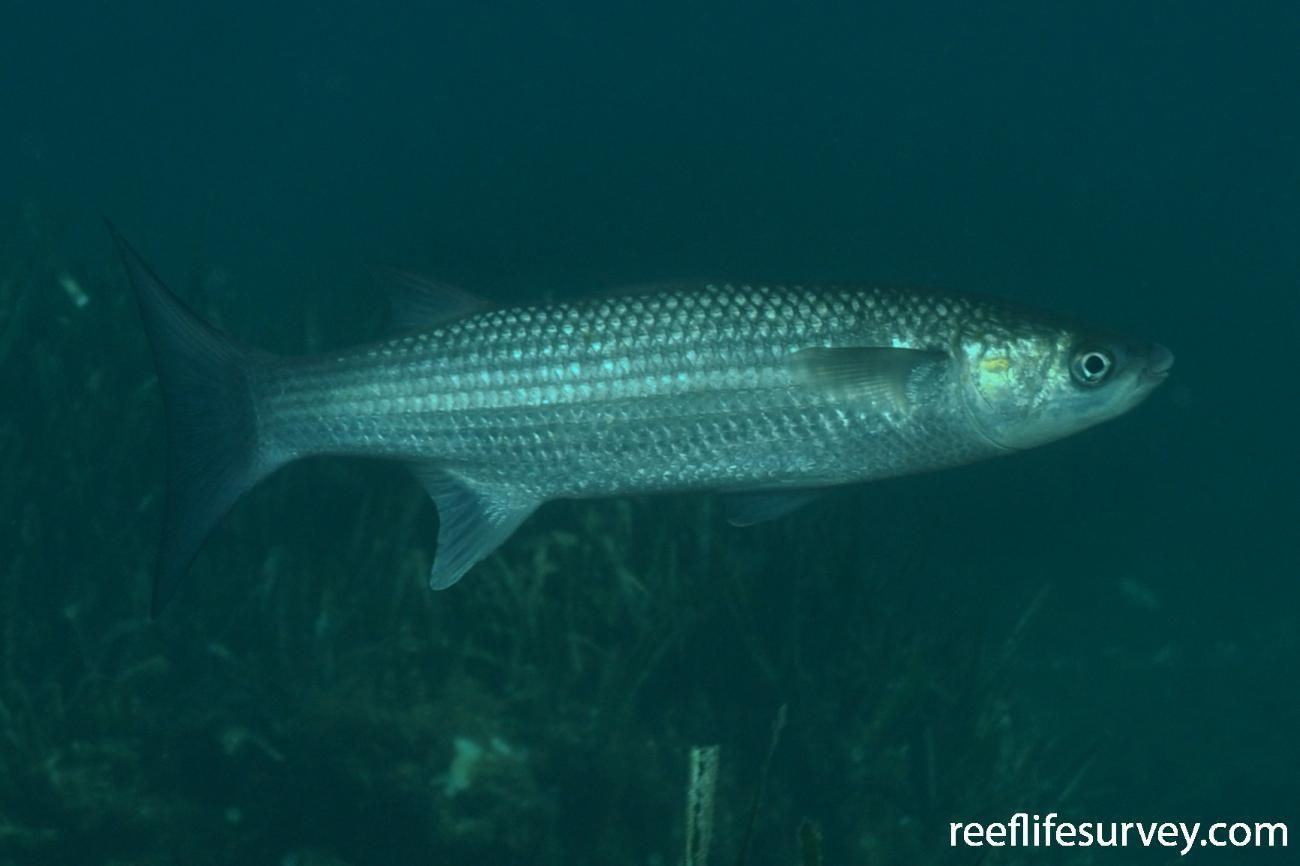Mullet: (118, 225, 1170, 640)
